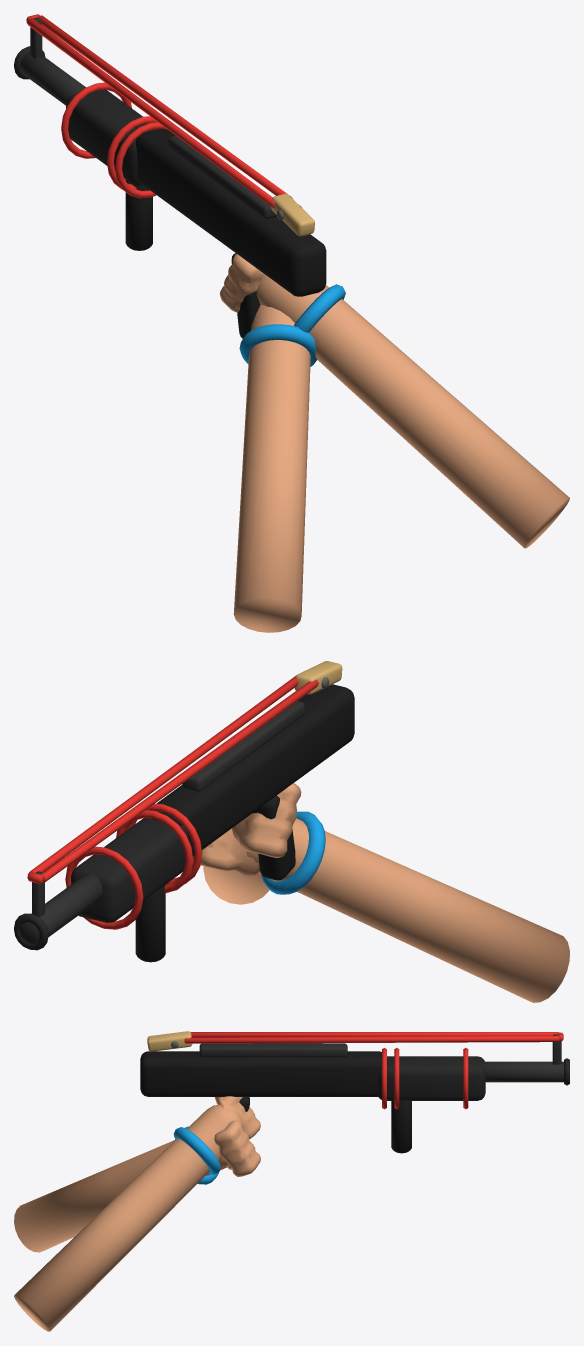
Rendered from nsboy.glb.
3 renders of one model, top to bottom at view 1: azimuth 30°, elevation 25°; view 2: azimuth 150°, elevation 25°; view 3: azimuth 270°, elevation 25°, orthographic. The views are drawn at different scales.
Parts seen in each view (by area): view 1: R, L, A; view 2: R, L, A; view 3: R, L, A.
Boxes of the visible parts, x1,y1,x2,y2 form: R: (14, 17, 569, 548); L: (233, 305, 317, 632); A: (26, 14, 292, 208); R: (14, 661, 354, 962); L: (193, 811, 569, 1002); A: (27, 676, 318, 883); R: (14, 1031, 569, 1331); L: (14, 1120, 260, 1252); A: (184, 1032, 563, 1043).
Size of the model in its own units: 0.5864 by 0.5756 by 1.13.
